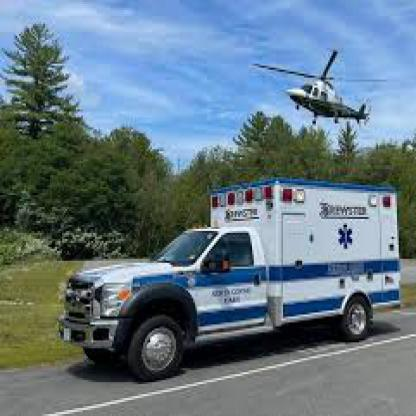Ambulance - v1 Ambulance last generate: (47, 171, 408, 392)
